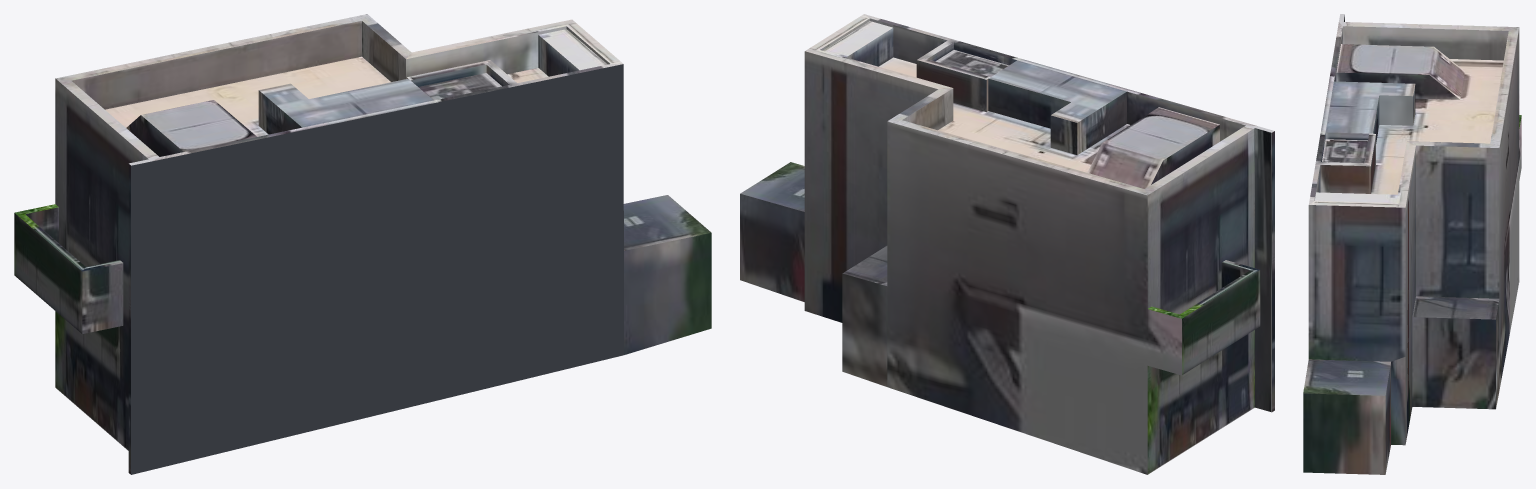
3 views of the same model, side by side, from view 1: azimuth 30°, elevation 25°; view 2: azimuth 150°, elevation 25°; view 3: azimuth 270°, elevation 25° (orthographic). The views are drawn at different scales.
Visible parts, largest first — view 1: B282744039301062A0; view 2: B282744039301062A0; view 3: B282744039301062A0.
Boxes of the visible parts, left/top/right/bottom form: B282744039301062A0: left=14, top=14, right=711, bottom=474; B282744039301062A0: left=740, top=14, right=1274, bottom=474; B282744039301062A0: left=1303, top=14, right=1521, bottom=474.
Bounding box in the file's own units: 18.87 × 9.61 × 7.45.
1 material, 1 textured.
